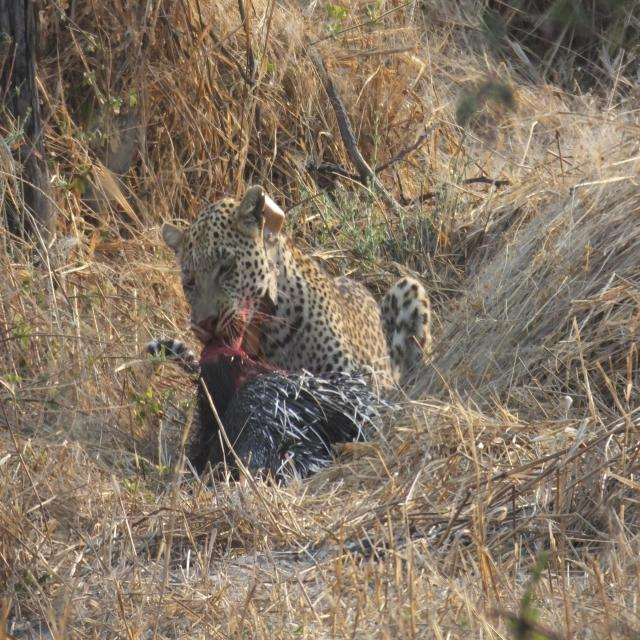Leopard: (131, 197, 432, 385)
